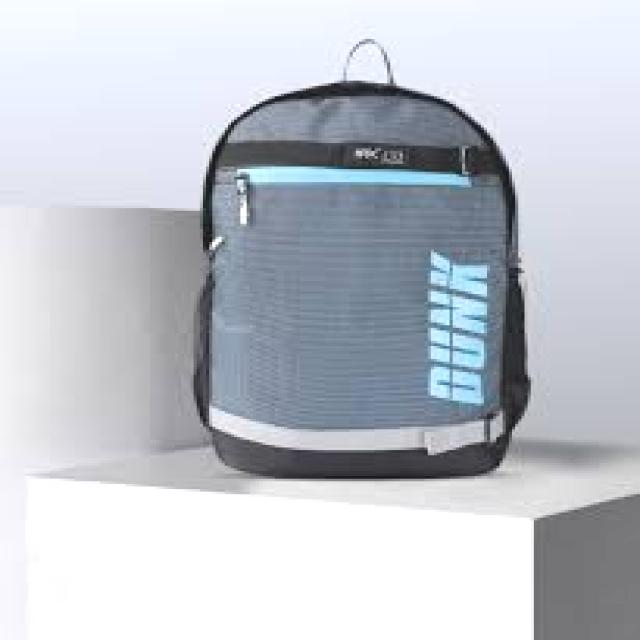backpack: (192, 38, 532, 480)
